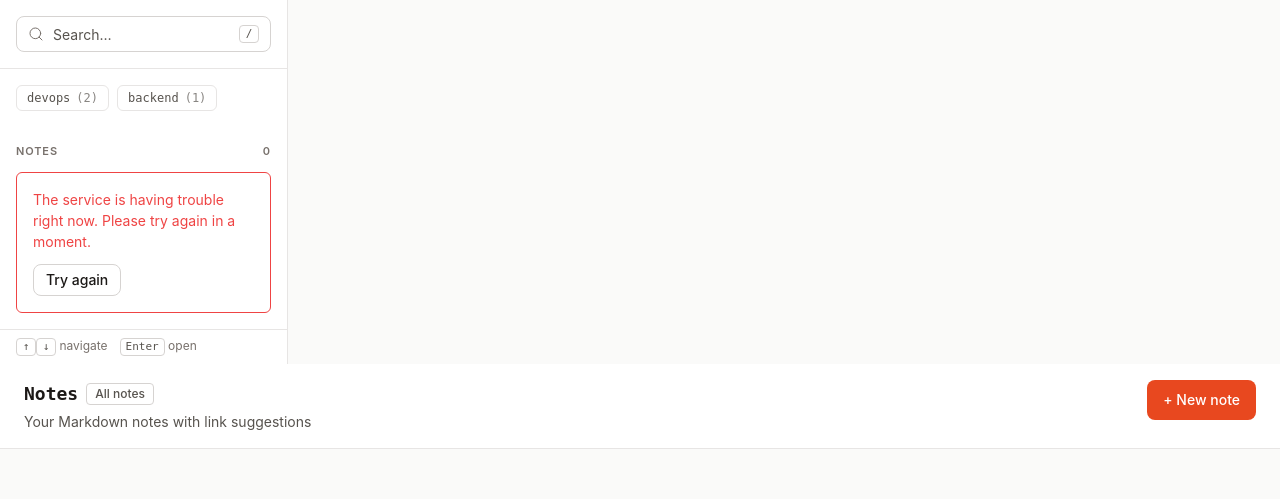
Test: NotesBrowser › shows an error with a retry that recovers
The width and height of the screenshot is (1280, 499).
Expected: the message shows "having trouble", [33,190,235,250]
Click the button "Try again" at (77, 280), box [33,264,121,296]
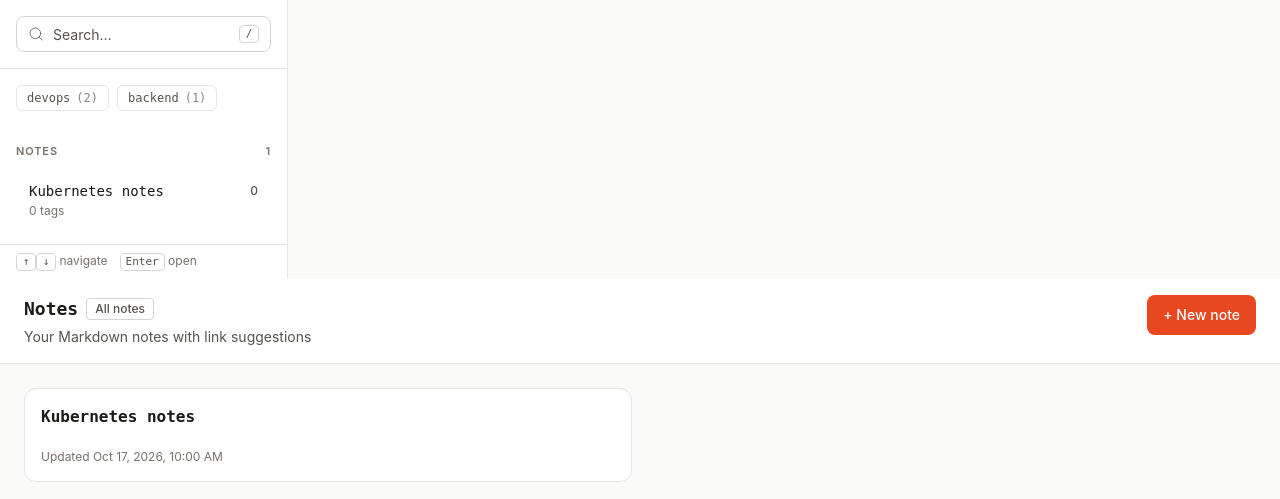
Now the list "notes" is shown, box [24,388,632,482]
Now the message is gone
